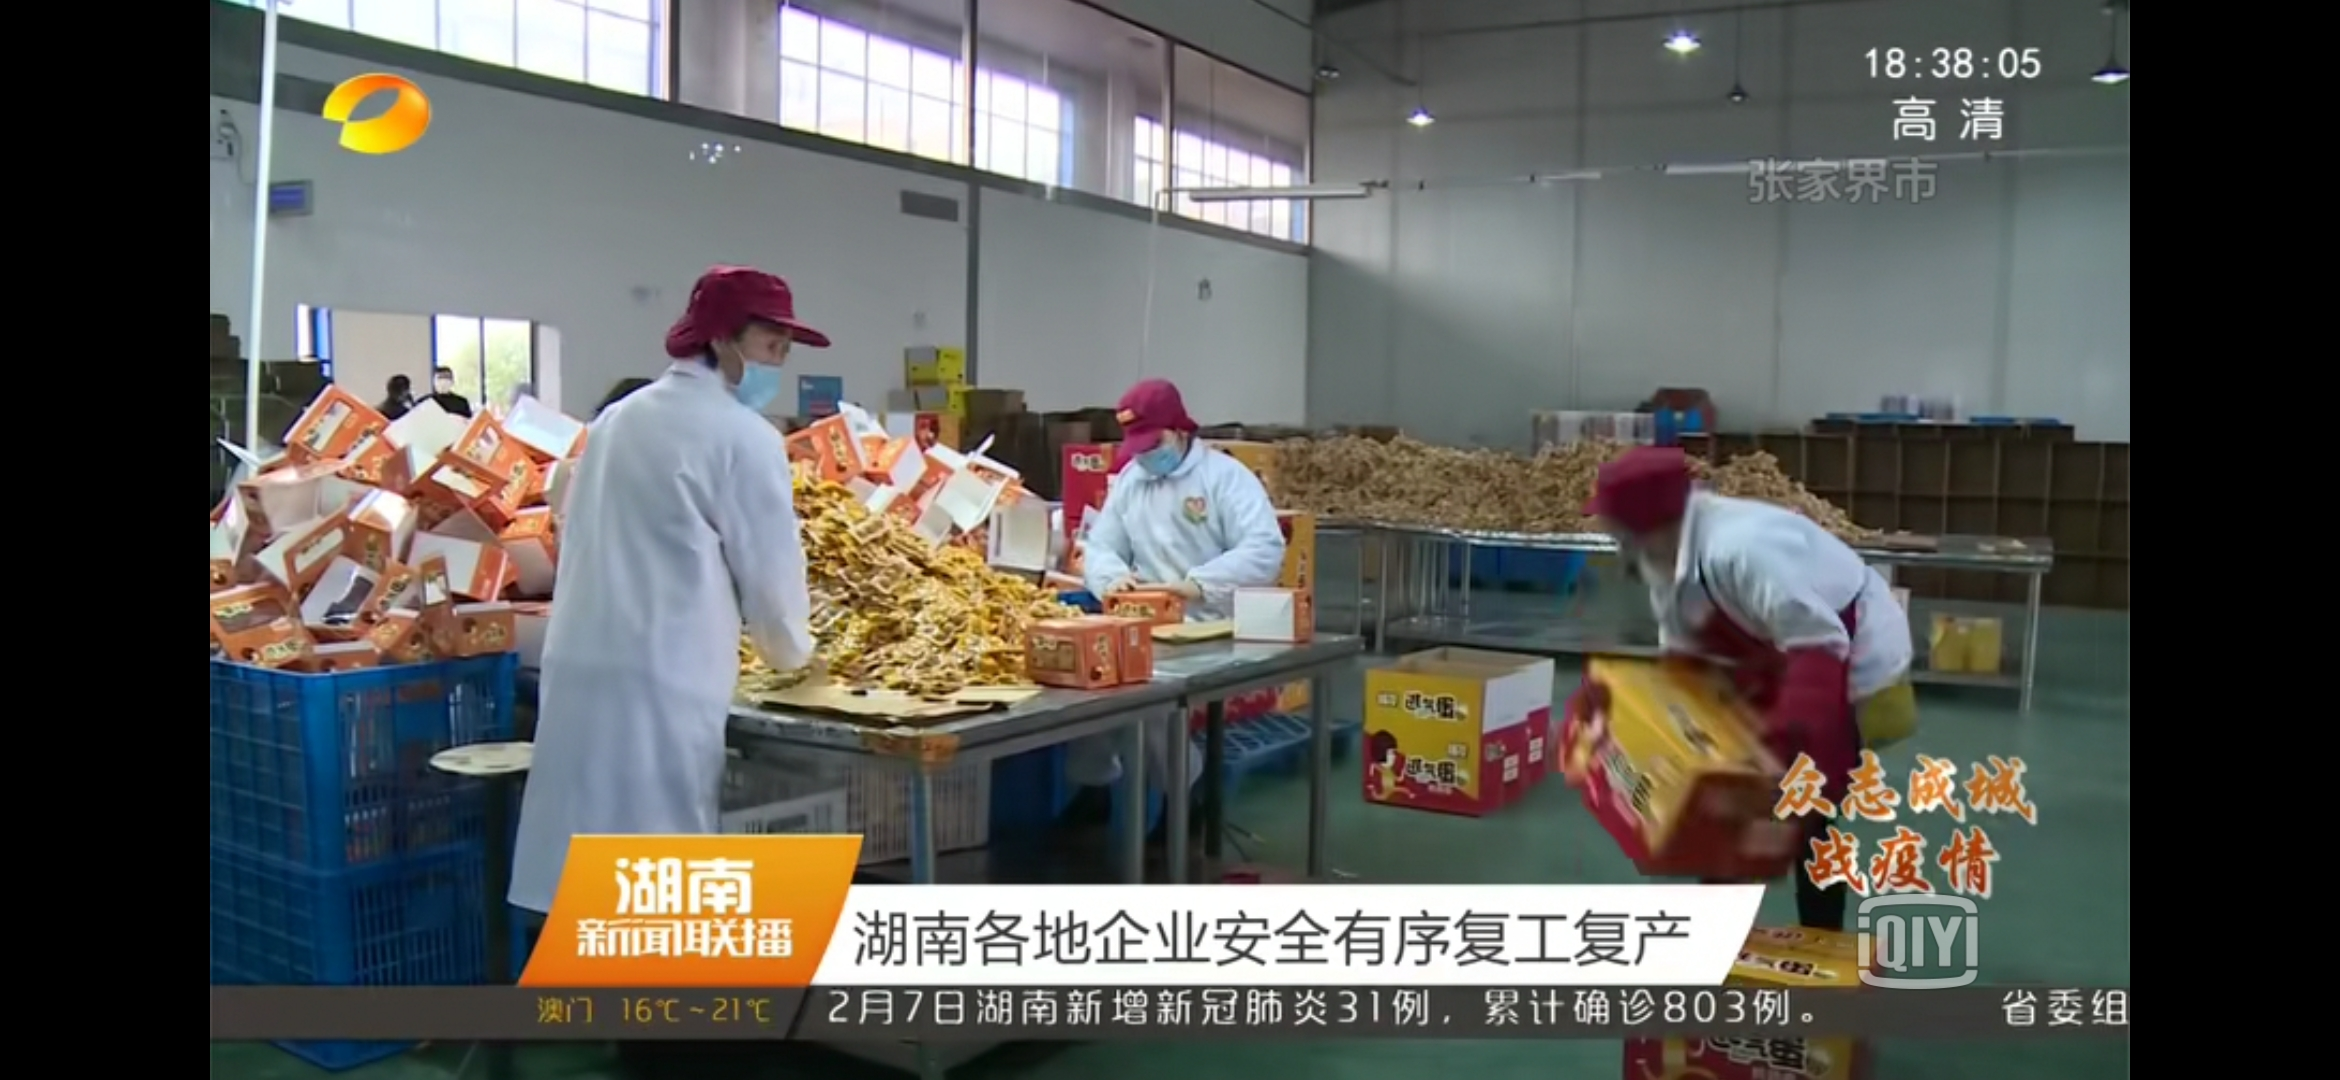correctlyWear: (703, 316, 792, 403), (1119, 407, 1192, 483)
